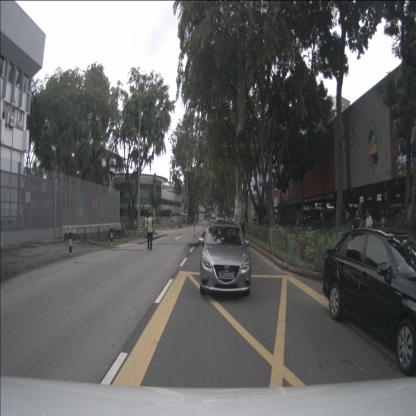human-pedestrian-adult: (352, 210, 361, 246), (147, 211, 154, 252), (366, 209, 373, 245), (240, 217, 246, 244), (381, 216, 386, 238)
vehicle-bicycle: (142, 225, 151, 238)
vehicle-car: (322, 226, 416, 376), (200, 222, 251, 296)
vehicle-truck: (211, 214, 215, 224)
